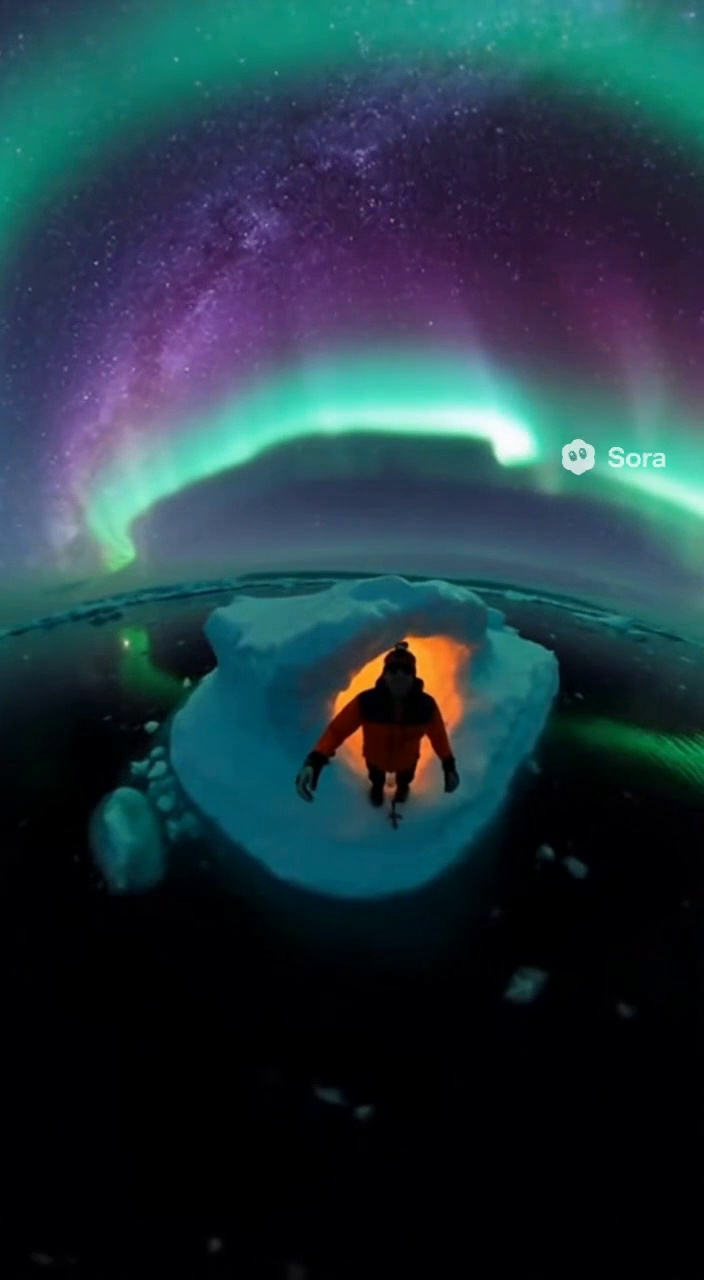watermark: (552, 439, 674, 475)
